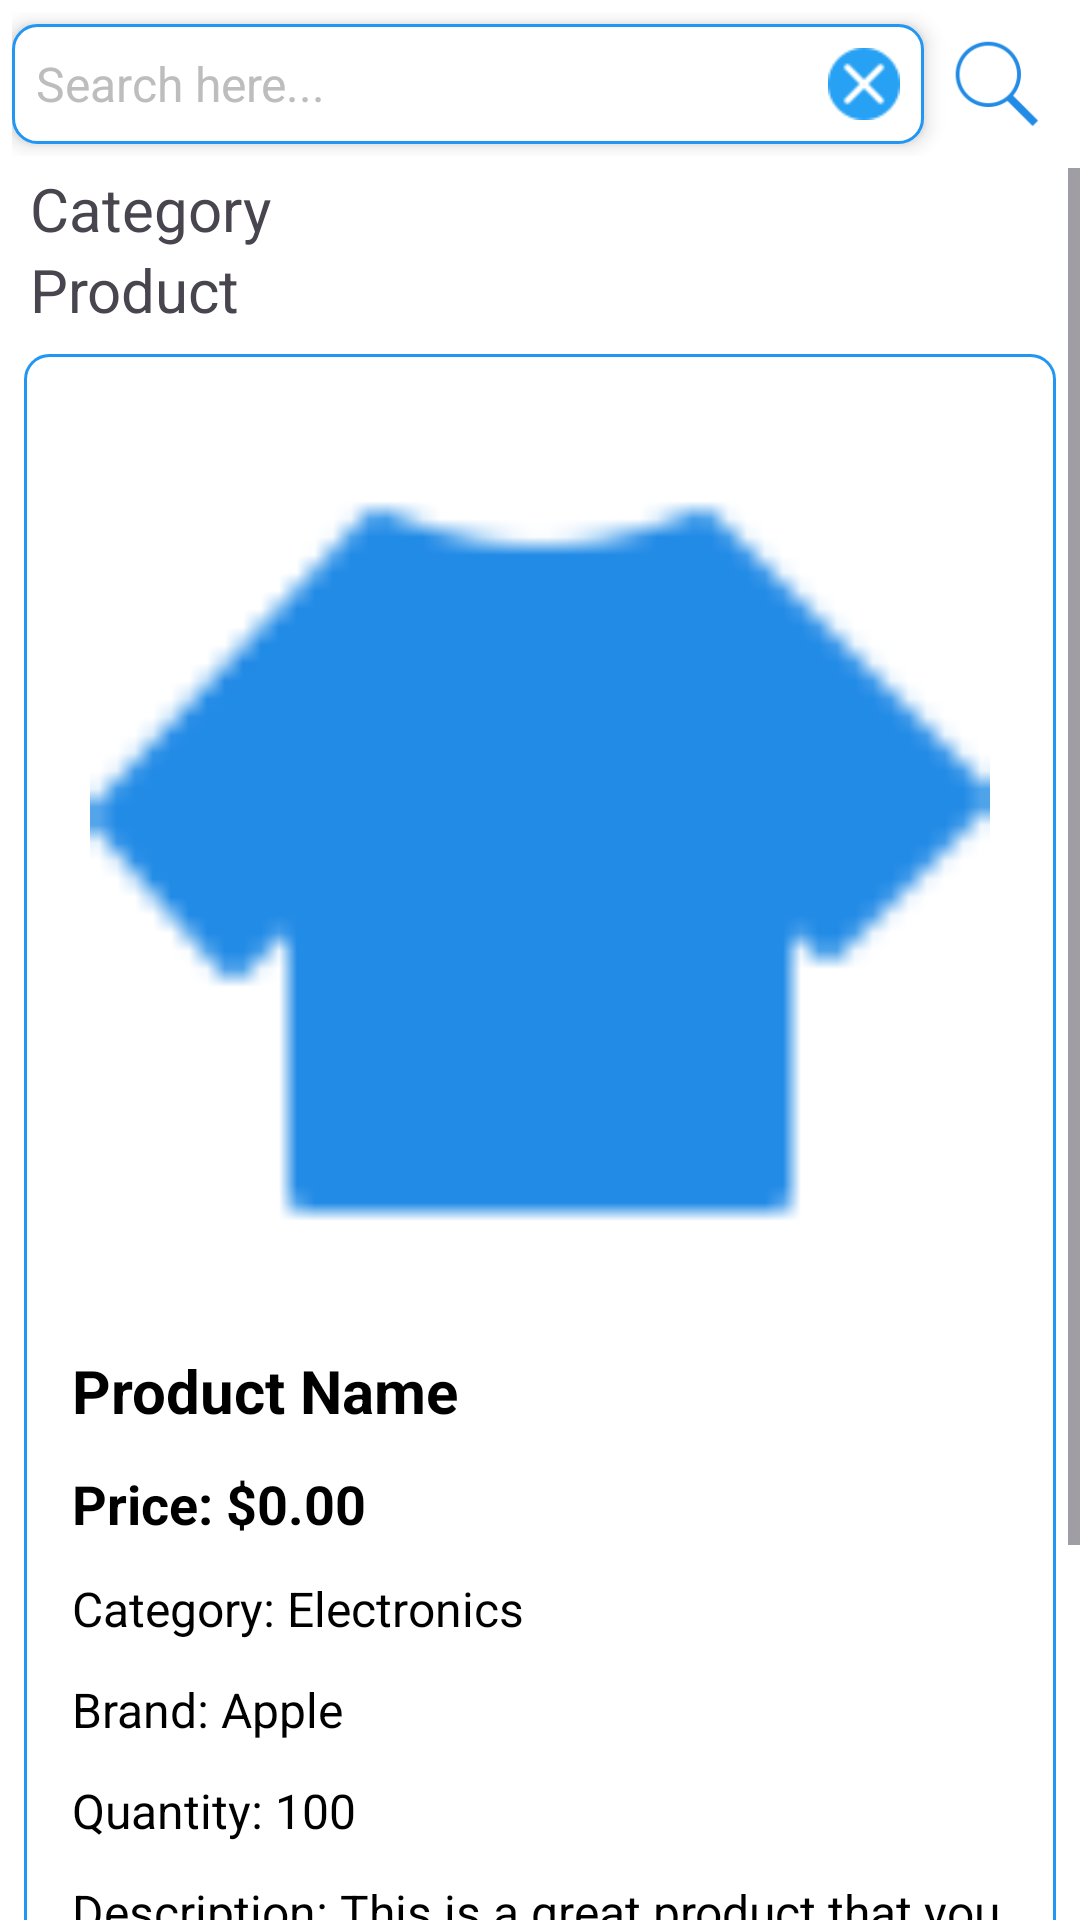

Where icons sit on this 1080px×1920px app screen, as (x1,y1,x2,y2):
cancel: (828,48,900,120)
